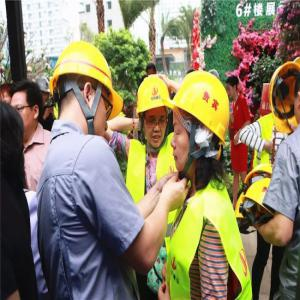none: (10, 76, 42, 138), (225, 75, 240, 100)
yellow: (51, 42, 116, 143), (169, 71, 230, 177), (135, 74, 174, 149)
